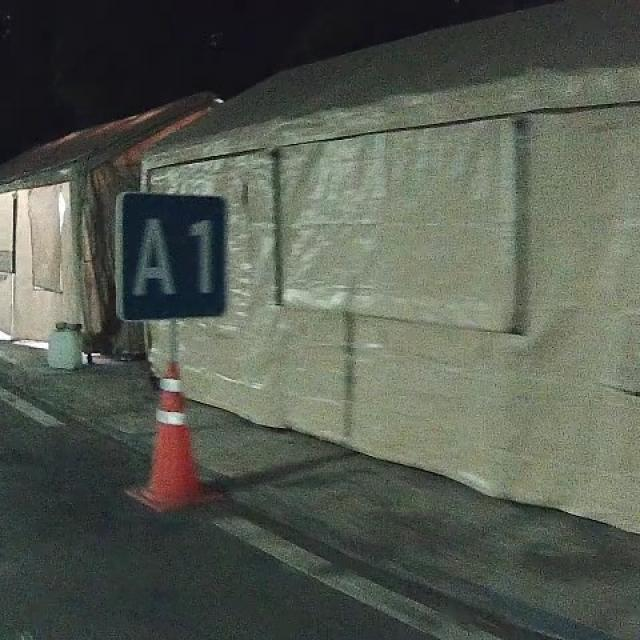a1: (108, 187, 230, 322)
